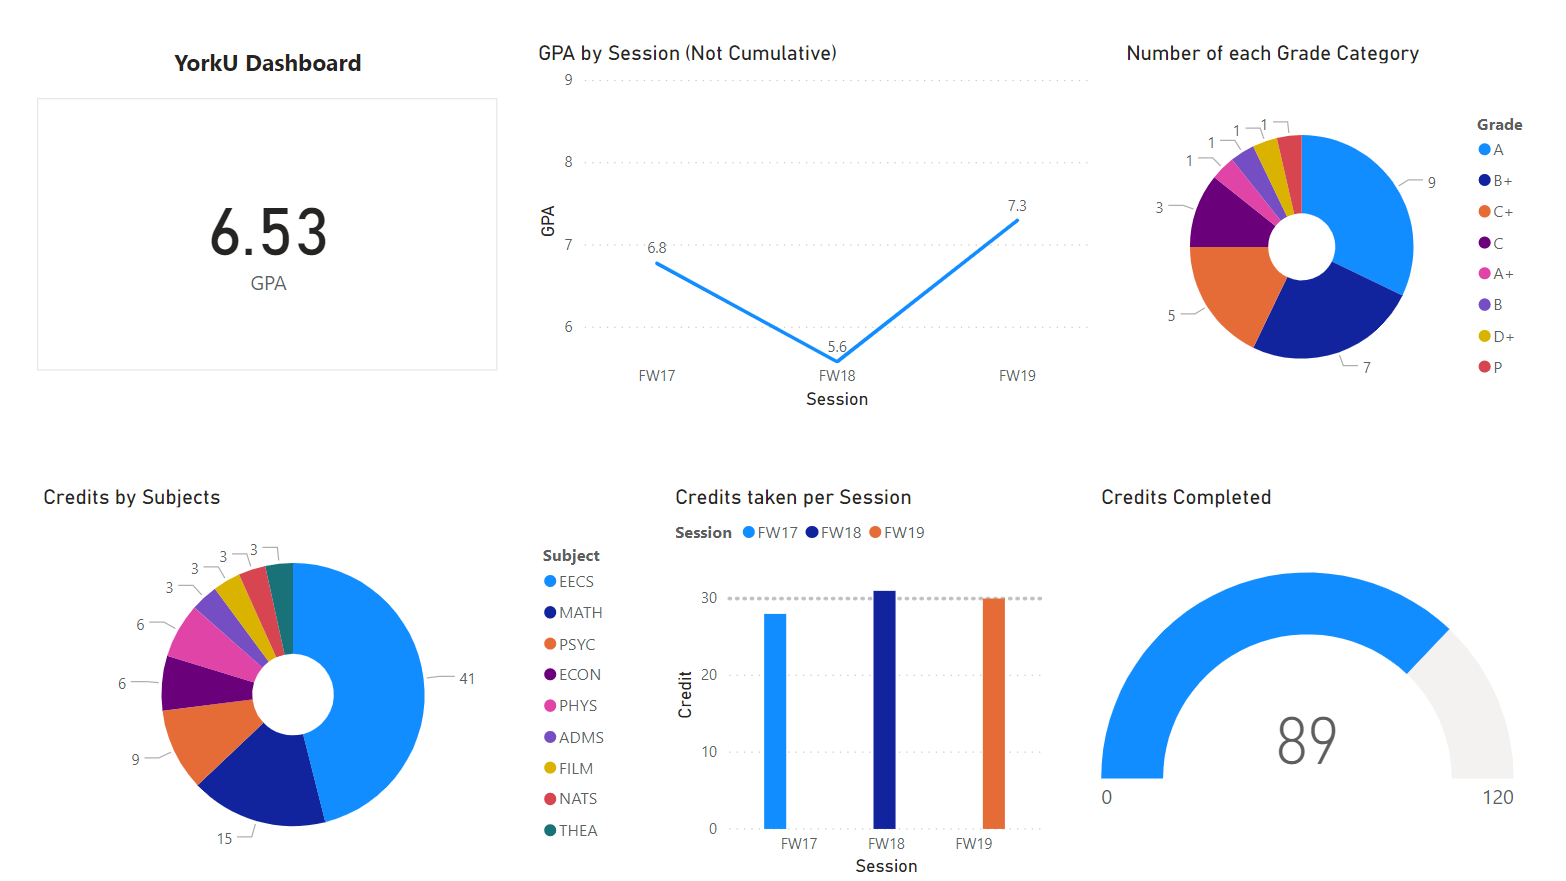

The dashboard page shown, as its layout file describes it:
{"tool":"powerbi","page":{"name":"Page 1","canvas":[1280,720],"ordinal":0},"visuals":[{"type":"pieChart","title":"Credits by Subjects","fields":{"Category":["grade_data.Subject"],"Y":["Sum(grade_data.Credit)"]},"box":[32.7,395.9,482.9,323.9],"z":0},{"type":"gauge","title":"Credits Completed","fields":{"Y":["Sum(grade_data.Credit)"]},"box":[893.9,395.9,345.5,323.9],"z":1000},{"type":"clusteredColumnChart","title":"Credits taken per Session","fields":{"Y":["Sum(grade_data.Credit)"],"Series":["grade_data.Session"],"Category":["grade_data.Session"]},"box":[547.7,395.9,309.5,323.9],"z":2000},{"type":"lineChart","title":"GPA by Session (Not Cumulative)","fields":{"Category":["grade_data.Session"],"Y":["grade_data.GPA"]},"box":[574.6,34,664.9,304.9],"z":3000},{"type":"card","fields":{"Values":["grade_data.GPA"]},"box":[33.1,80.7,504.8,279.1],"z":4000},{"type":"textbox","box":[136.2,34,299.6,44.7],"z":5000}]}

Visuals, with their boxes in screenshot pixels (x1, y1, x2, y2), scaled from the page's 1280x720 canvas onto the 1566x881 screenshot:
"Credits by Subjects" pieChart: x1=40, y1=484, x2=631, y2=880
"Credits Completed" gauge: x1=1094, y1=484, x2=1516, y2=880
"Credits taken per Session" clusteredColumnChart: x1=670, y1=484, x2=1049, y2=880
"GPA by Session (Not Cumulative)" lineChart: x1=703, y1=42, x2=1516, y2=415
card - grade_data.GPA: x1=40, y1=99, x2=658, y2=440
textbox: x1=167, y1=42, x2=533, y2=96
